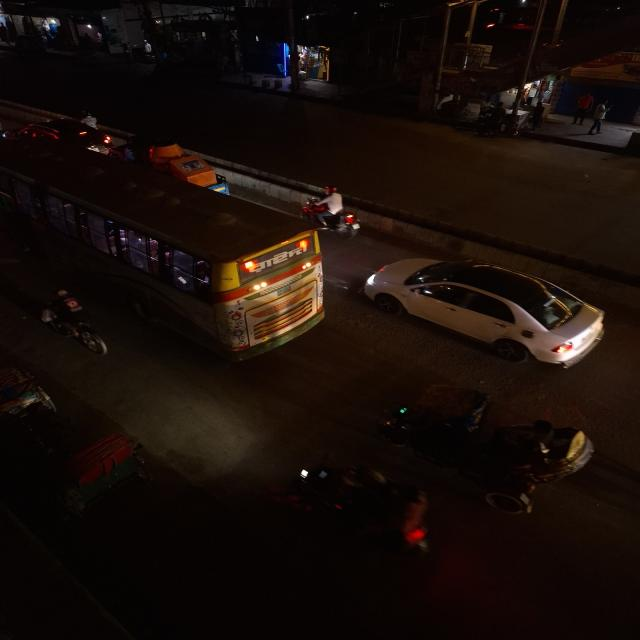bus: (0, 156, 329, 366)
car: (360, 253, 616, 369), (7, 116, 115, 150)
motorcycle: (285, 459, 444, 559), (36, 287, 111, 356), (298, 187, 366, 238), (464, 110, 523, 138)
pickup_van: (164, 154, 233, 196)
rickshaw: (370, 379, 595, 514), (17, 428, 156, 524), (0, 346, 59, 428)
